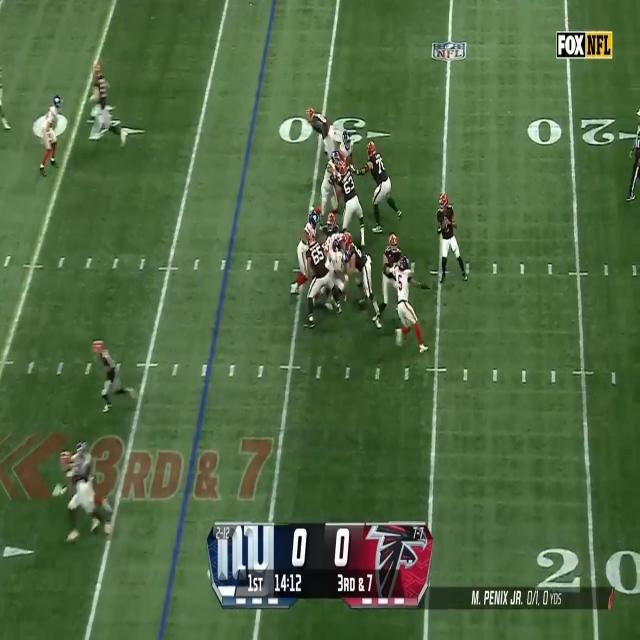Ball: (442, 216, 450, 233)
